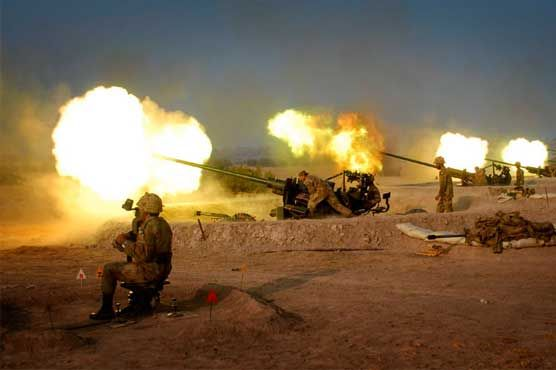uniform: (90, 183, 180, 341), (290, 165, 355, 215), (510, 147, 537, 206), (430, 151, 454, 216)
